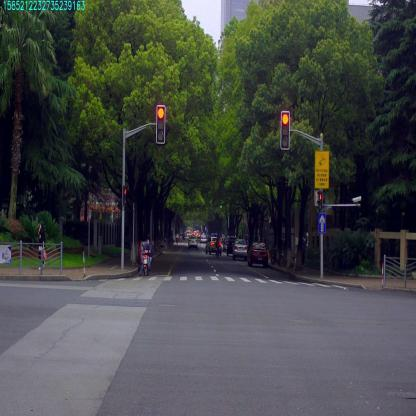traffic-light: (156, 106, 165, 142), (281, 113, 289, 148)
